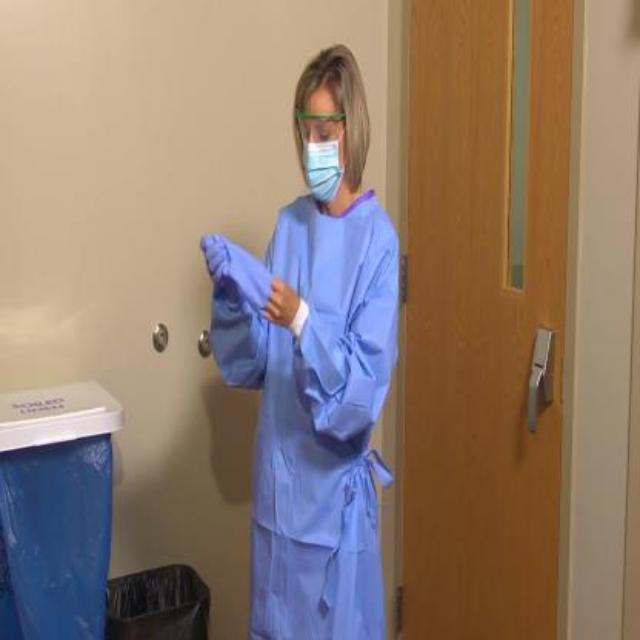gloved_hand: (193, 233, 245, 303)
